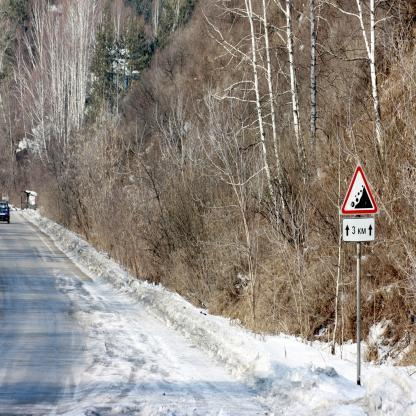road_sign: (341, 165, 377, 214), (342, 217, 374, 240)
